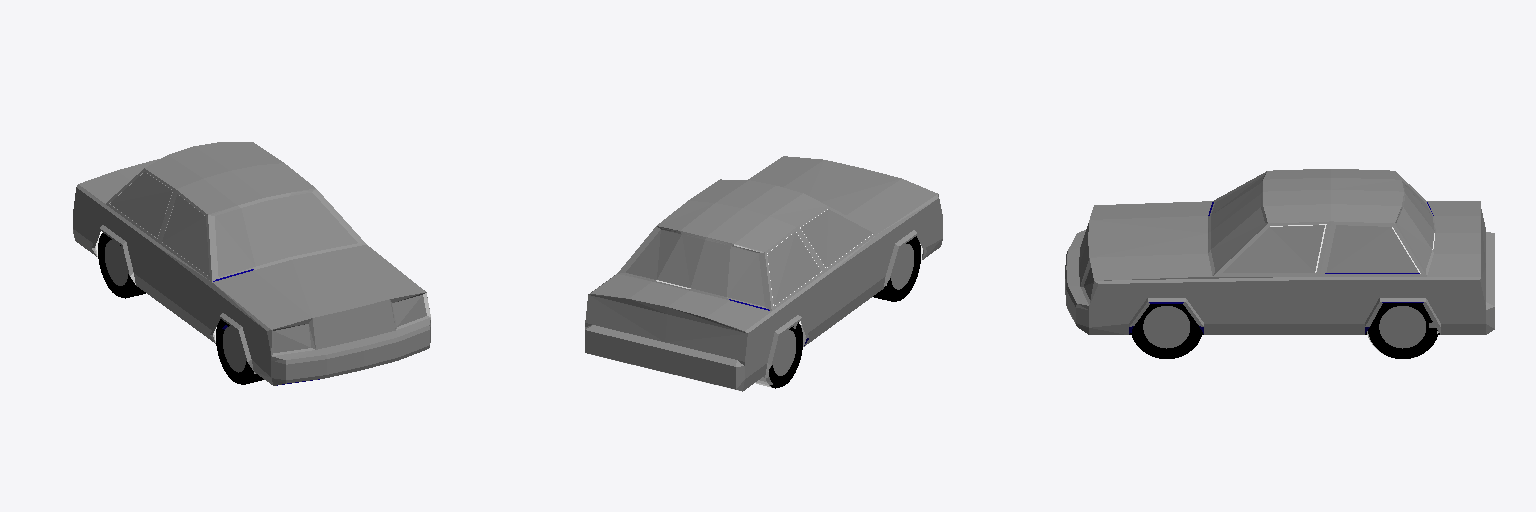
The model's file is Carros.obj.
3 renders of one model, left to right at view 1: azimuth 30°, elevation 25°; view 2: azimuth 150°, elevation 25°; view 3: azimuth 270°, elevation 25°, orthographic.
Parts seen in each view (by area): view 1: Car_Cube; view 2: Car_Cube; view 3: Car_Cube.
Part boxes in pixels (x1,y1,x2,y2): Car_Cube: (73,142,430,385); Car_Cube: (585,156,942,391); Car_Cube: (1065,169,1494,358).
Bounding box in the file's own units: 2.1 × 1.59 × 4.67.